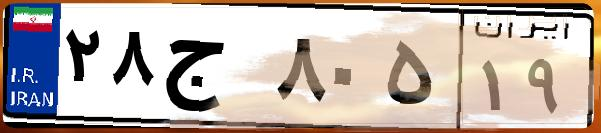0: (330, 28, 385, 110)
1: (475, 38, 525, 113)
2: (57, 26, 110, 100)
5: (385, 28, 445, 110)
8: (270, 28, 330, 110), (110, 28, 158, 98)
9: (525, 38, 570, 115)
ج: (158, 20, 270, 120)
